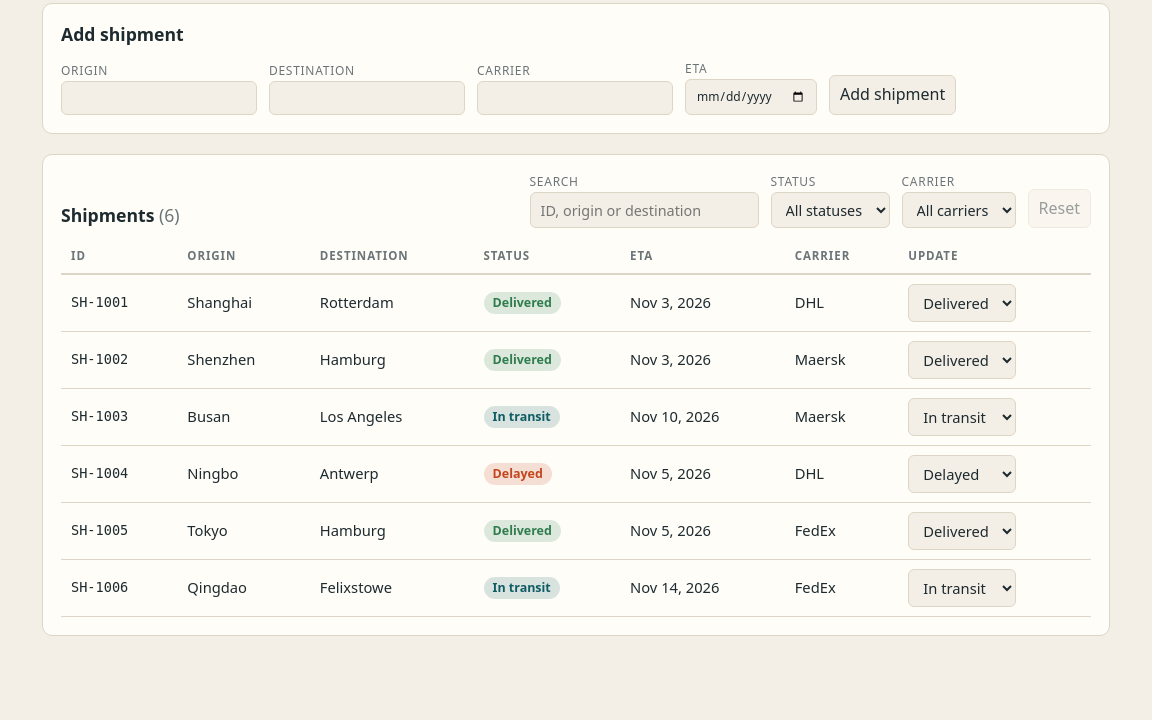
Scenario: App add and status flows › shows an "Update failed." alert and keeps the old status when PATCH fails
(page scrolled)
Expected: the text "SH-1001" is shown, [61,274,177,331]
Select "Delivered" in the dropdown named "Set status for SH-1003": [962, 417] box [908,398,1016,436]
(page scrolled)
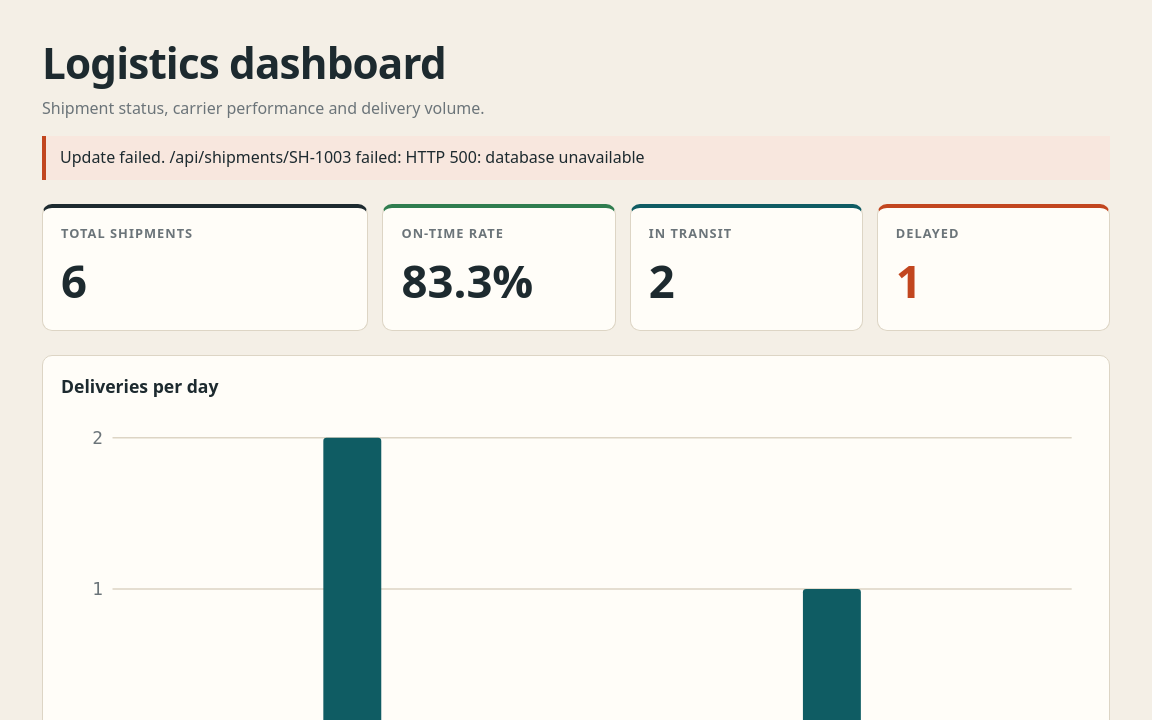
Expected: the text "1" is shown, [896,249,922,311]
Now the message reads "Update failed. /api/shipments/SH-1003 failed: HTTP 500: database unavailable", box [42,136,1110,180]
